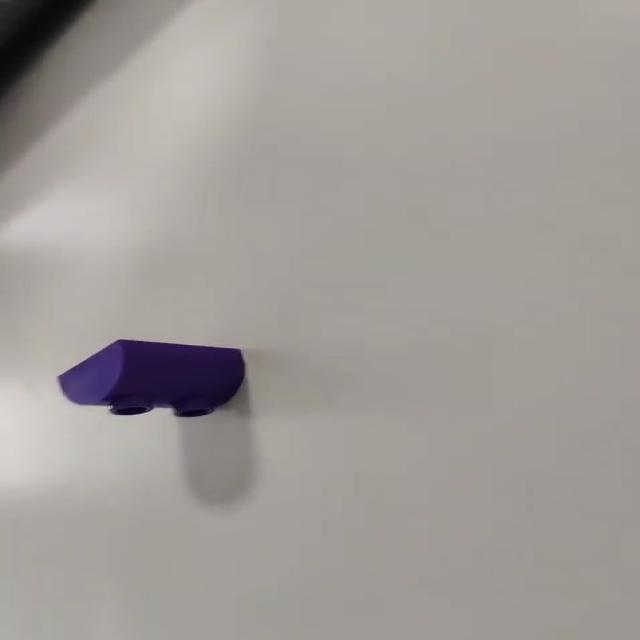H2x2x1: (49, 338, 251, 422)
